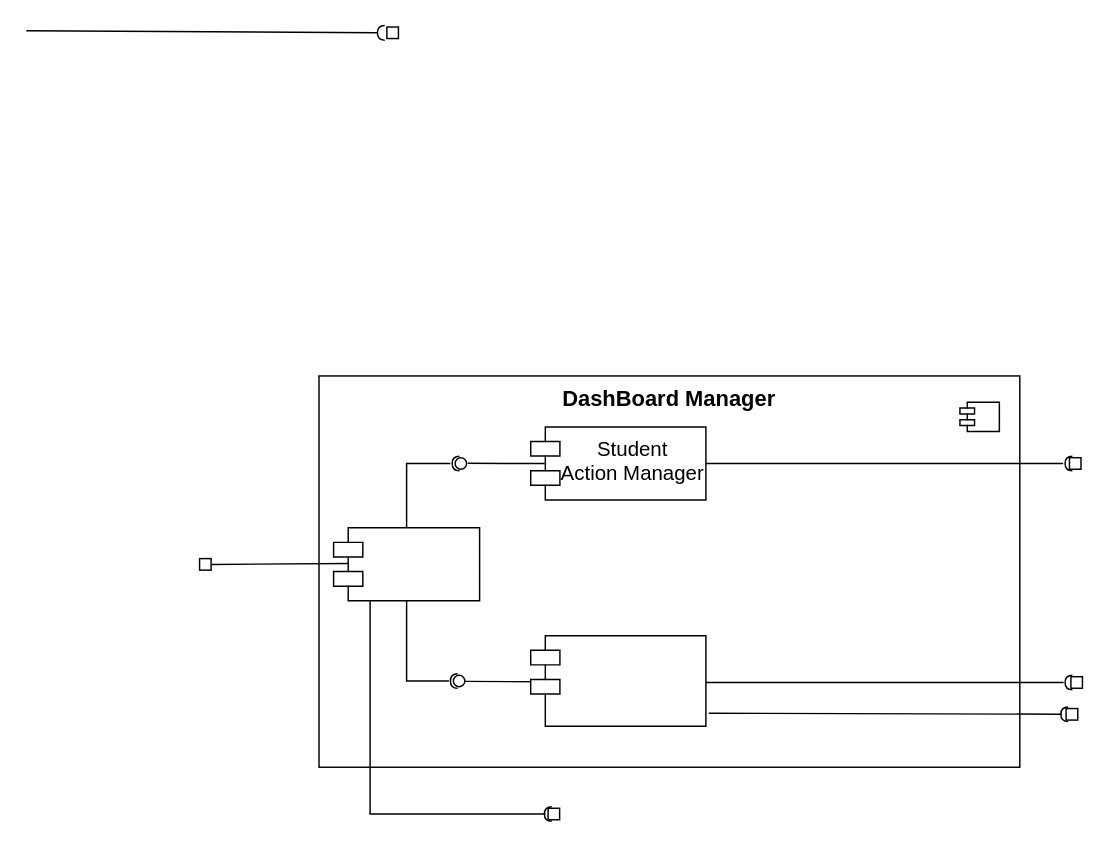
This 1108x847 diagram has some shape labels left out. Here are the shapes that lost their labels. From the top down, the centre of each, then its label:
At pixel 406 563: "Input Manager".
At pixel 617 680: "Educator Action Manager".
